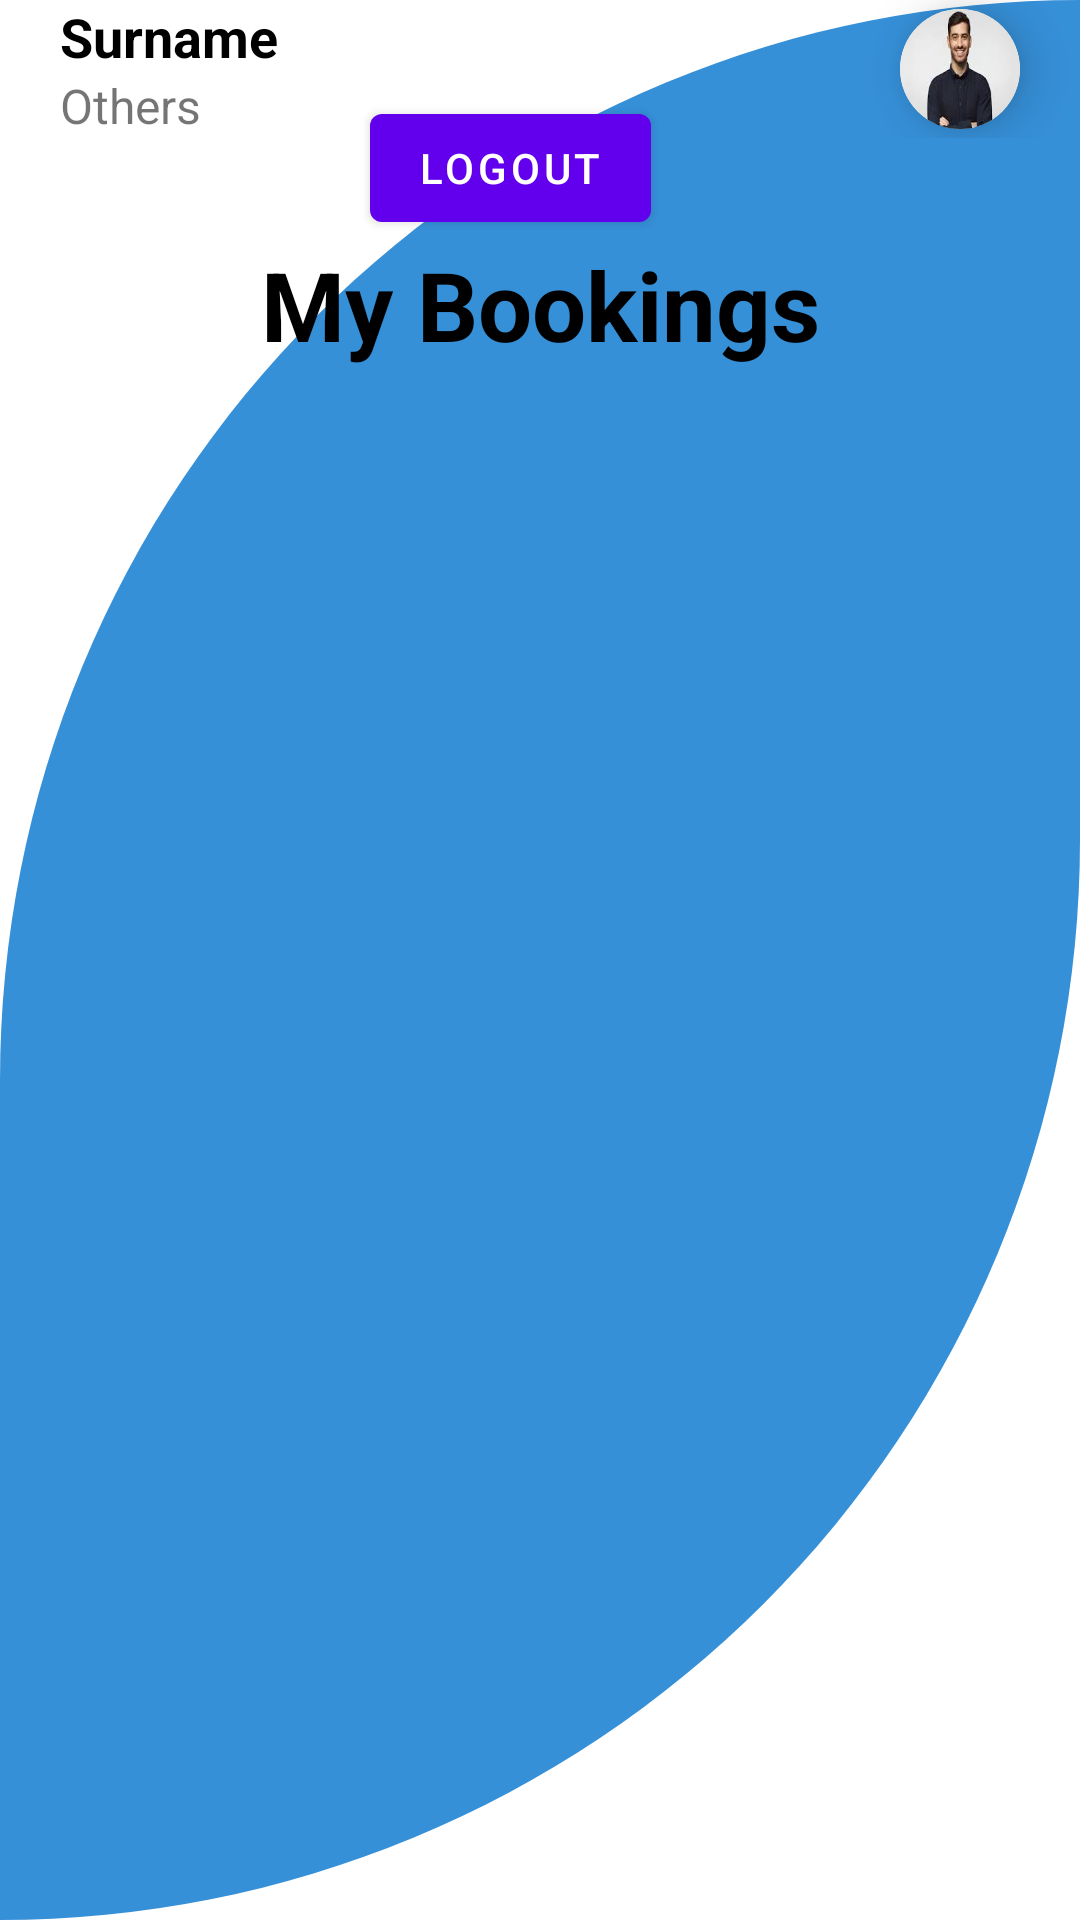

Named icons in this screenshot (1080 x 1920) and their bounding boxes, (x1, y1, x2, y2):
person: (900, 9, 1020, 129)
